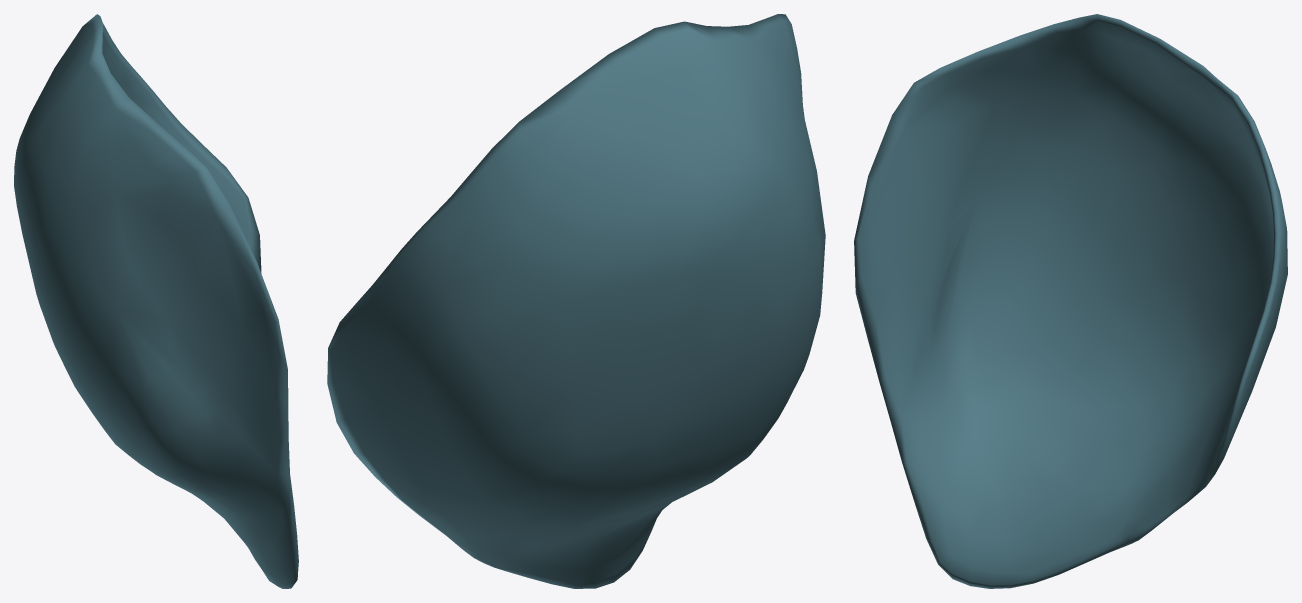
File: Iliopsoas_ending_on_the_lesser_trochanter.l_Generated_Mesh_From.glb
3 views of the same model, side by side, from view 1: azimuth 30°, elevation 25°; view 2: azimuth 150°, elevation 25°; view 3: azimuth 270°, elevation 25° (orthographic). The views are drawn at different scales.
Parts seen in each view (by area): view 1: Iliopsoas_ending_on_the_lesser_trochanter.l_Generated_Mesh_F; view 2: Iliopsoas_ending_on_the_lesser_trochanter.l_Generated_Mesh_F; view 3: Iliopsoas_ending_on_the_lesser_trochanter.l_Generated_Mesh_F.
Part boxes in pixels (x1,y1,x2,y2): Iliopsoas_ending_on_the_lesser_trochanter.l_Generated_Mesh_F: (14, 14, 298, 588); Iliopsoas_ending_on_the_lesser_trochanter.l_Generated_Mesh_F: (327, 14, 825, 588); Iliopsoas_ending_on_the_lesser_trochanter.l_Generated_Mesh_F: (854, 14, 1287, 588).
Bounding box in the file's own units: 0.0148 × 0.0249 × 0.0188.
